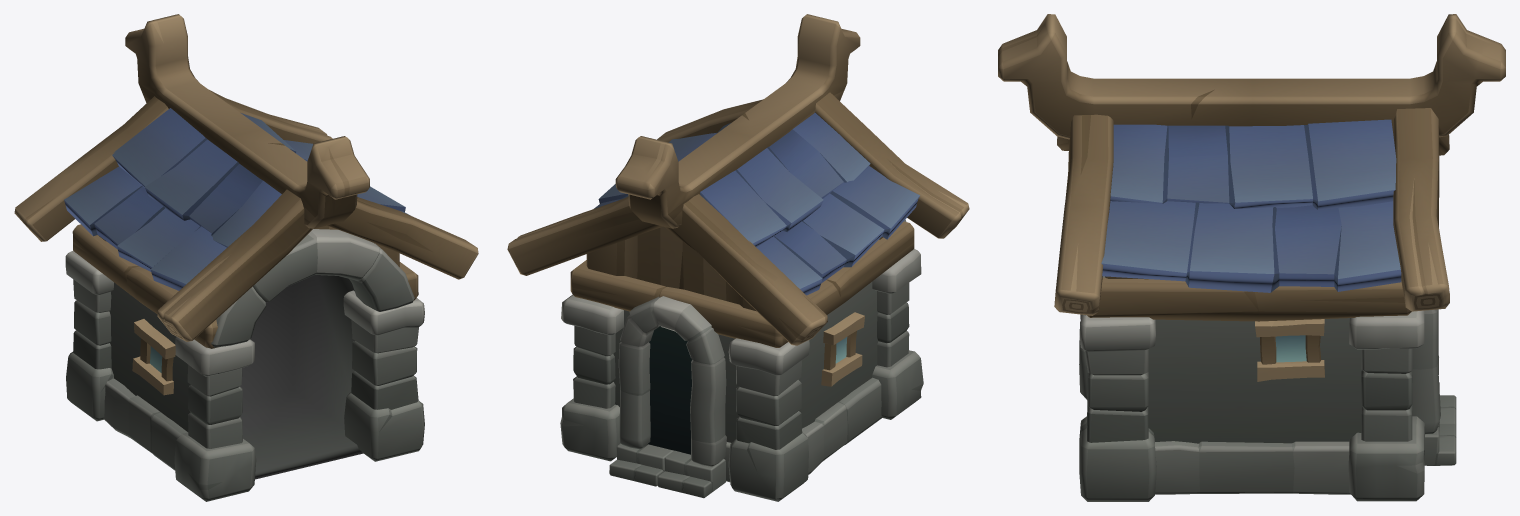
File: factory_building.fbx
3 views of the same model, side by side, from view 1: azimuth 30°, elevation 25°; view 2: azimuth 150°, elevation 25°; view 3: azimuth 270°, elevation 25° (orthographic). The views are drawn at different scales.
Visible parts, largest first — view 1: factory_building; view 2: factory_building; view 3: factory_building.
Boxes of the visible parts, x1,y1,x2,y2 form: factory_building: (14,14,478,501); factory_building: (507,14,969,501); factory_building: (998,14,1505,501).
Bounding box in the file's own units: 642 × 691 × 758.
